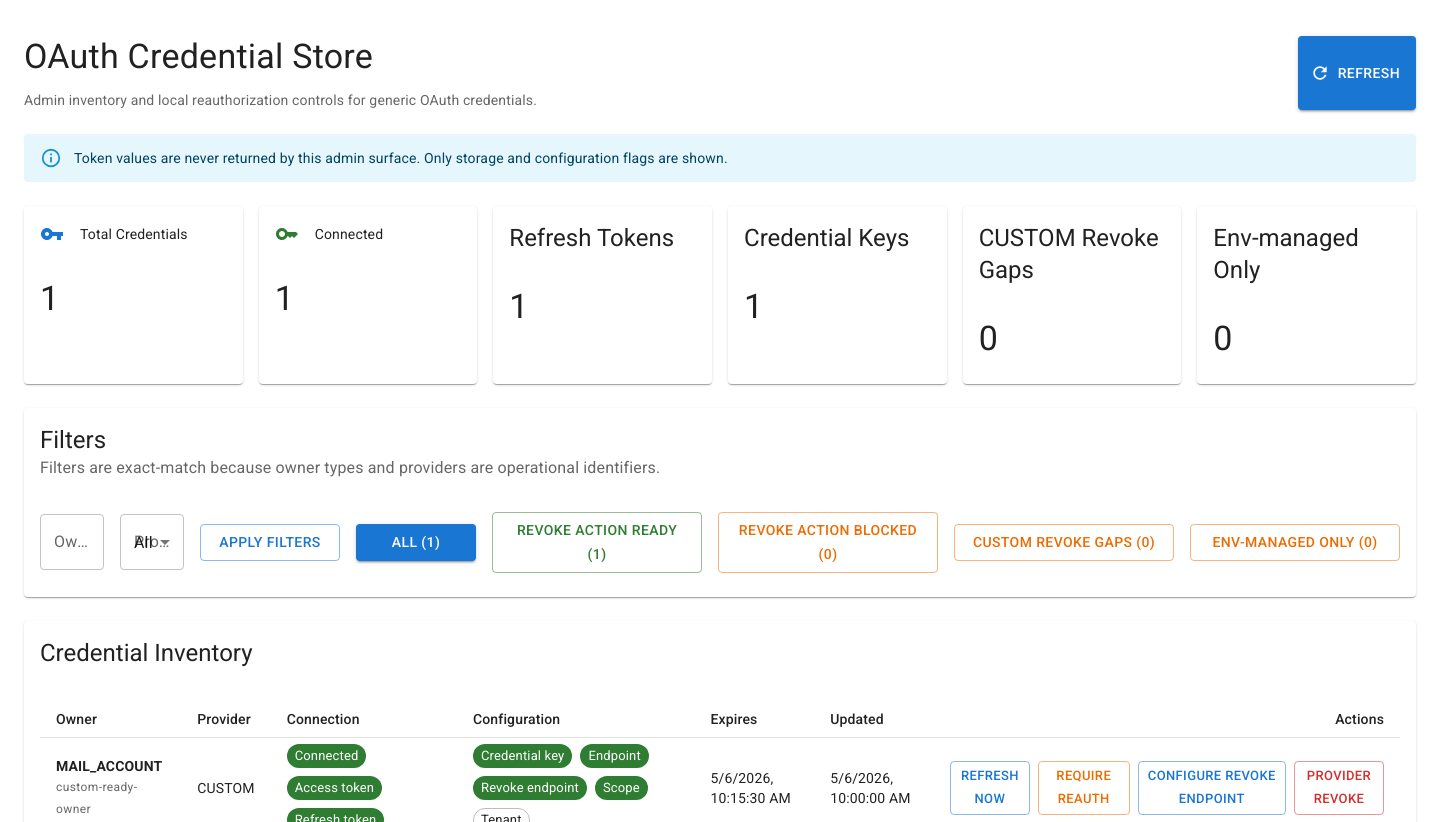
shows empty state when CUSTOM revoke gap filter has no matches
Expected: the text "custom-ready-owner" is shown, [56,780,137,816]
Click the button "CUSTOM revoke gaps (0)": point(1064, 542) [954,524,1174,561]
(page scrolled)
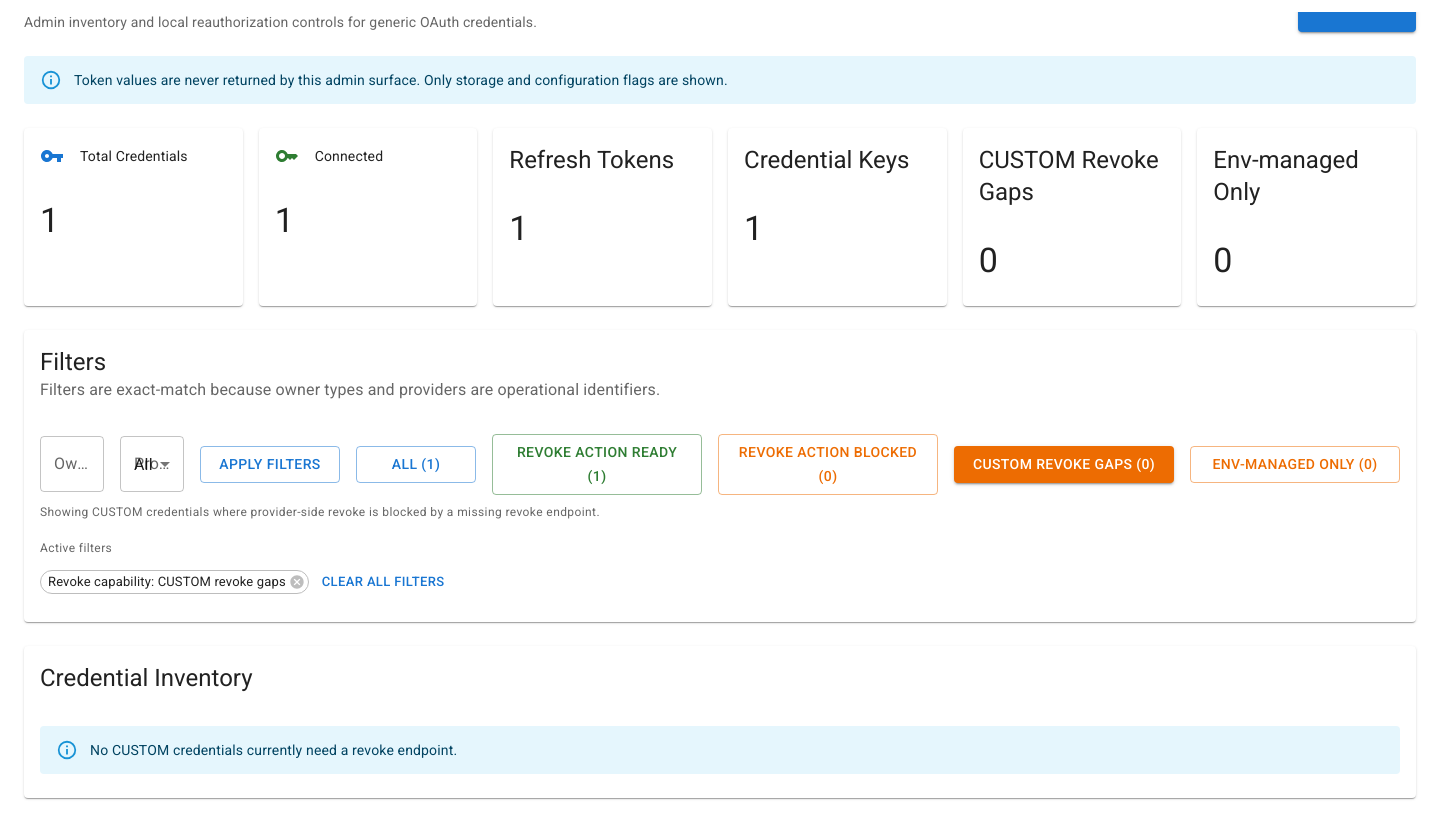
Now the text "No CUSTOM credentials currently need a revoke endpoint." is shown, box [90,742,457,758]
